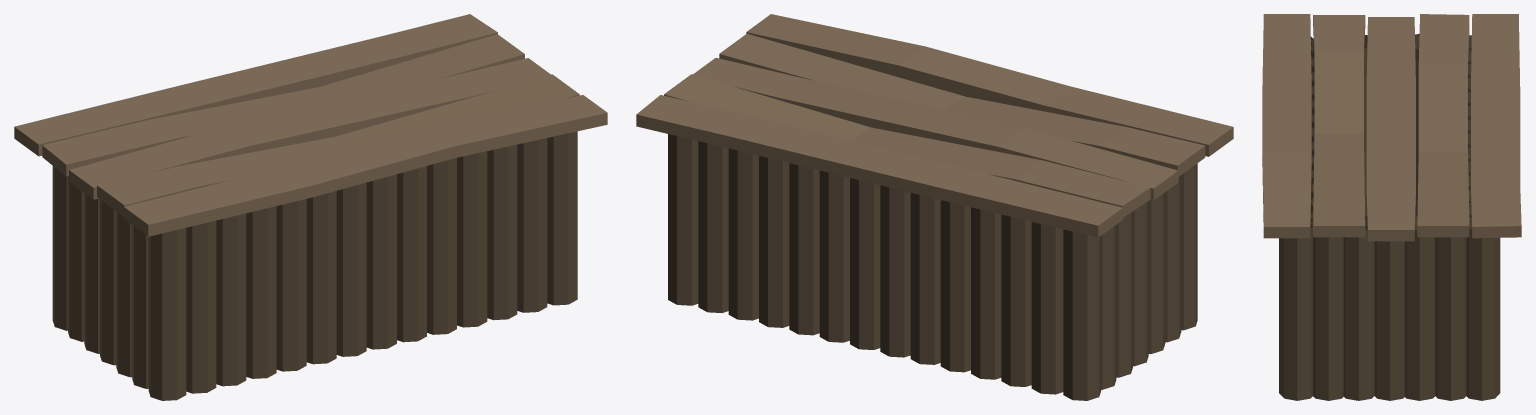
File: market_table_d.FBX
3 views of the same model, side by side, from view 1: azimuth 30°, elevation 25°; view 2: azimuth 150°, elevation 25°; view 3: azimuth 270°, elevation 25° (orthographic). The views are drawn at different scales.
Parts seen in each view (by area): view 1: market_table_d; view 2: market_table_d; view 3: market_table_d.
Part boxes in pixels (x1,y1,x2,y2): market_table_d: (14,14,607,400); market_table_d: (636,14,1233,400); market_table_d: (1262,14,1521,400).
Size of the model in its own units: 2.59 by 1.05 by 1.33.
